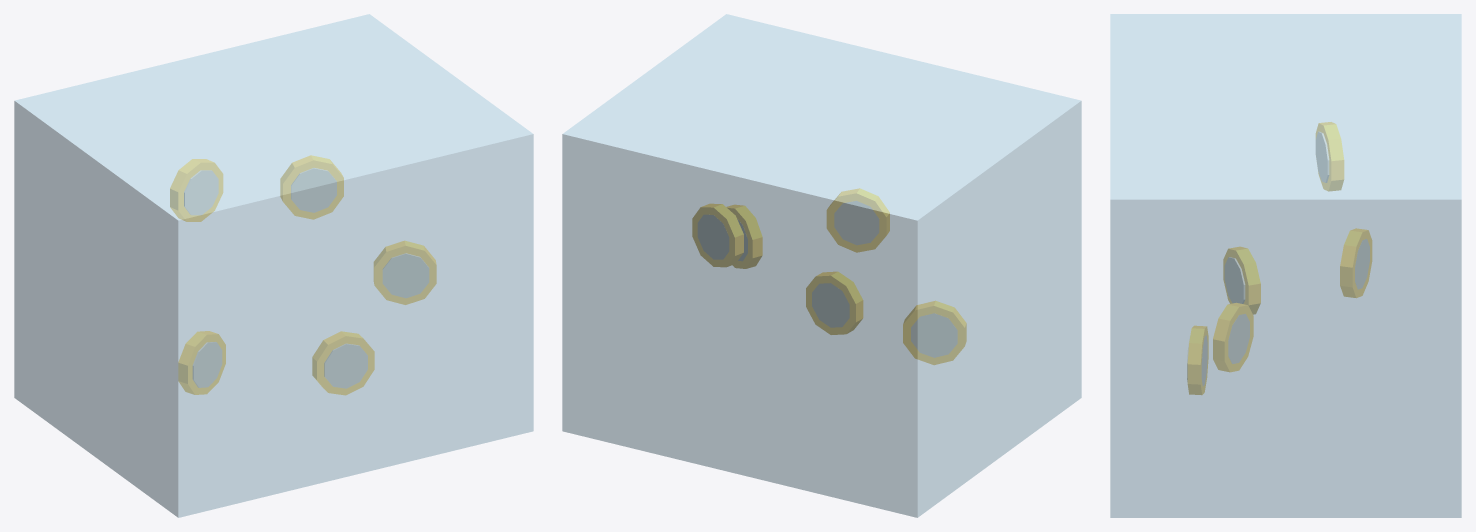
The model's file is ice_block_watches.glb.
3 views of the same model, side by side, from view 1: azimuth 30°, elevation 25°; view 2: azimuth 150°, elevation 25°; view 3: azimuth 270°, elevation 25° (orthographic). The views are drawn at different scales.
Parts seen in each view (by area): view 1: ice_block_ice, watch_block_gold, face_block_face; view 2: ice_block_ice, watch_block_gold, face_block_face; view 3: ice_block_ice, watch_block_gold, face_block_face.
Boxes of the visible parts, x1,y1,x2,y2 form: ice_block_ice: [14, 14, 533, 517]; watch_block_gold: [170, 155, 436, 395]; face_block_face: [184, 168, 428, 388]; ice_block_ice: [562, 14, 1081, 517]; watch_block_gold: [692, 188, 966, 364]; face_block_face: [698, 201, 957, 357]; ice_block_ice: [1110, 14, 1461, 517]; watch_block_gold: [1188, 122, 1371, 394]; face_block_face: [1187, 132, 1369, 385].
Size of the model in its own units: 0.5 by 0.4 by 0.4.
